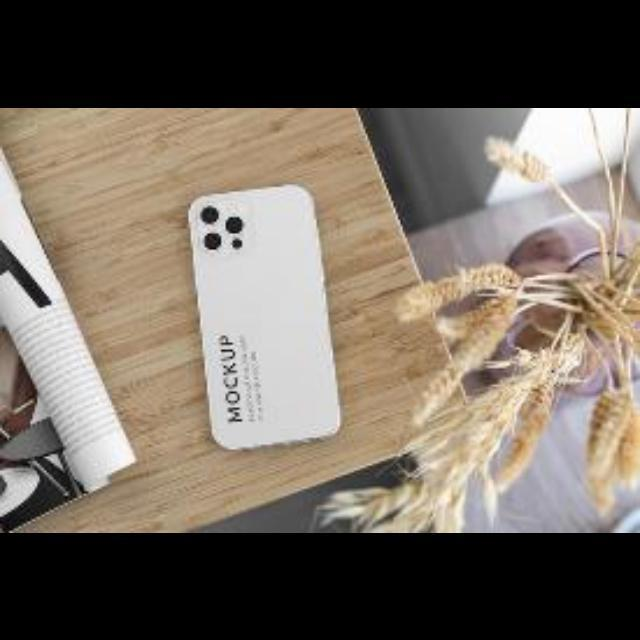phone: (186, 181, 334, 448)
